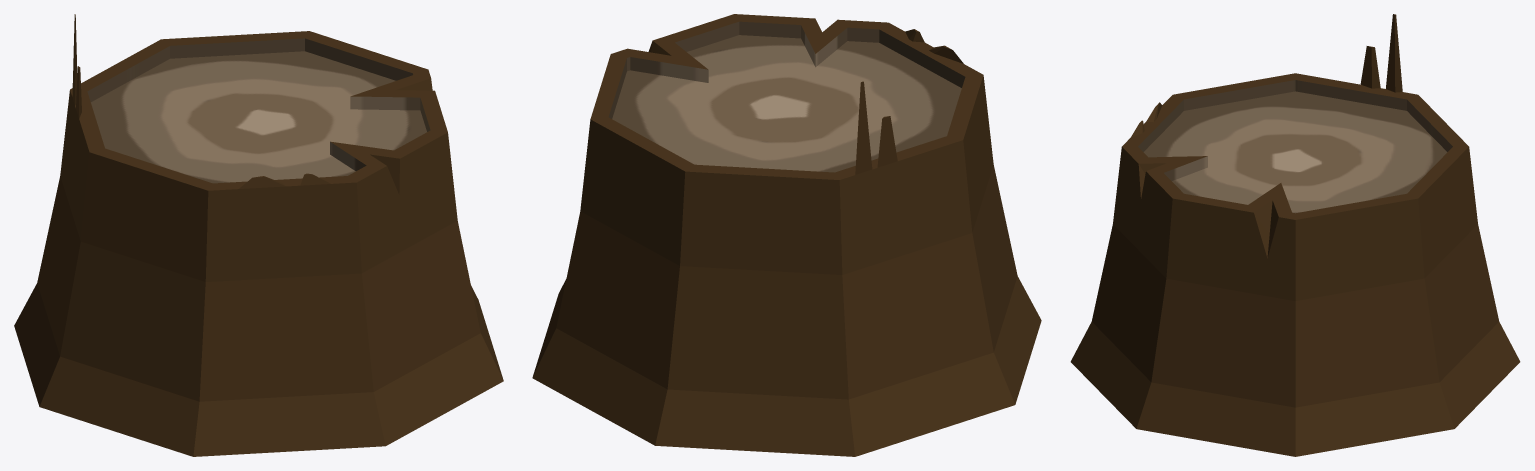
Rendered from Tree_Stump.fbx.
3 views of the same model, side by side, from view 1: azimuth 30°, elevation 25°; view 2: azimuth 150°, elevation 25°; view 3: azimuth 270°, elevation 25° (orthographic). The views are drawn at different scales.
Visible parts, largest first — view 1: Tree_Stump; view 2: Tree_Stump; view 3: Tree_Stump.
Boxes of the visible parts, x1=… form: Tree_Stump: x1=14, y1=14, x2=503, y2=456; Tree_Stump: x1=532, y1=14, x2=1041, y2=456; Tree_Stump: x1=1070, y1=14, x2=1520, y2=456.
Bounding box in the file's own units: 3.04 × 2.18 × 3.04.
